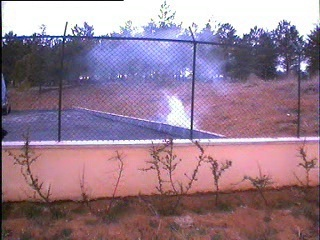smoke: (96, 31, 226, 129)
